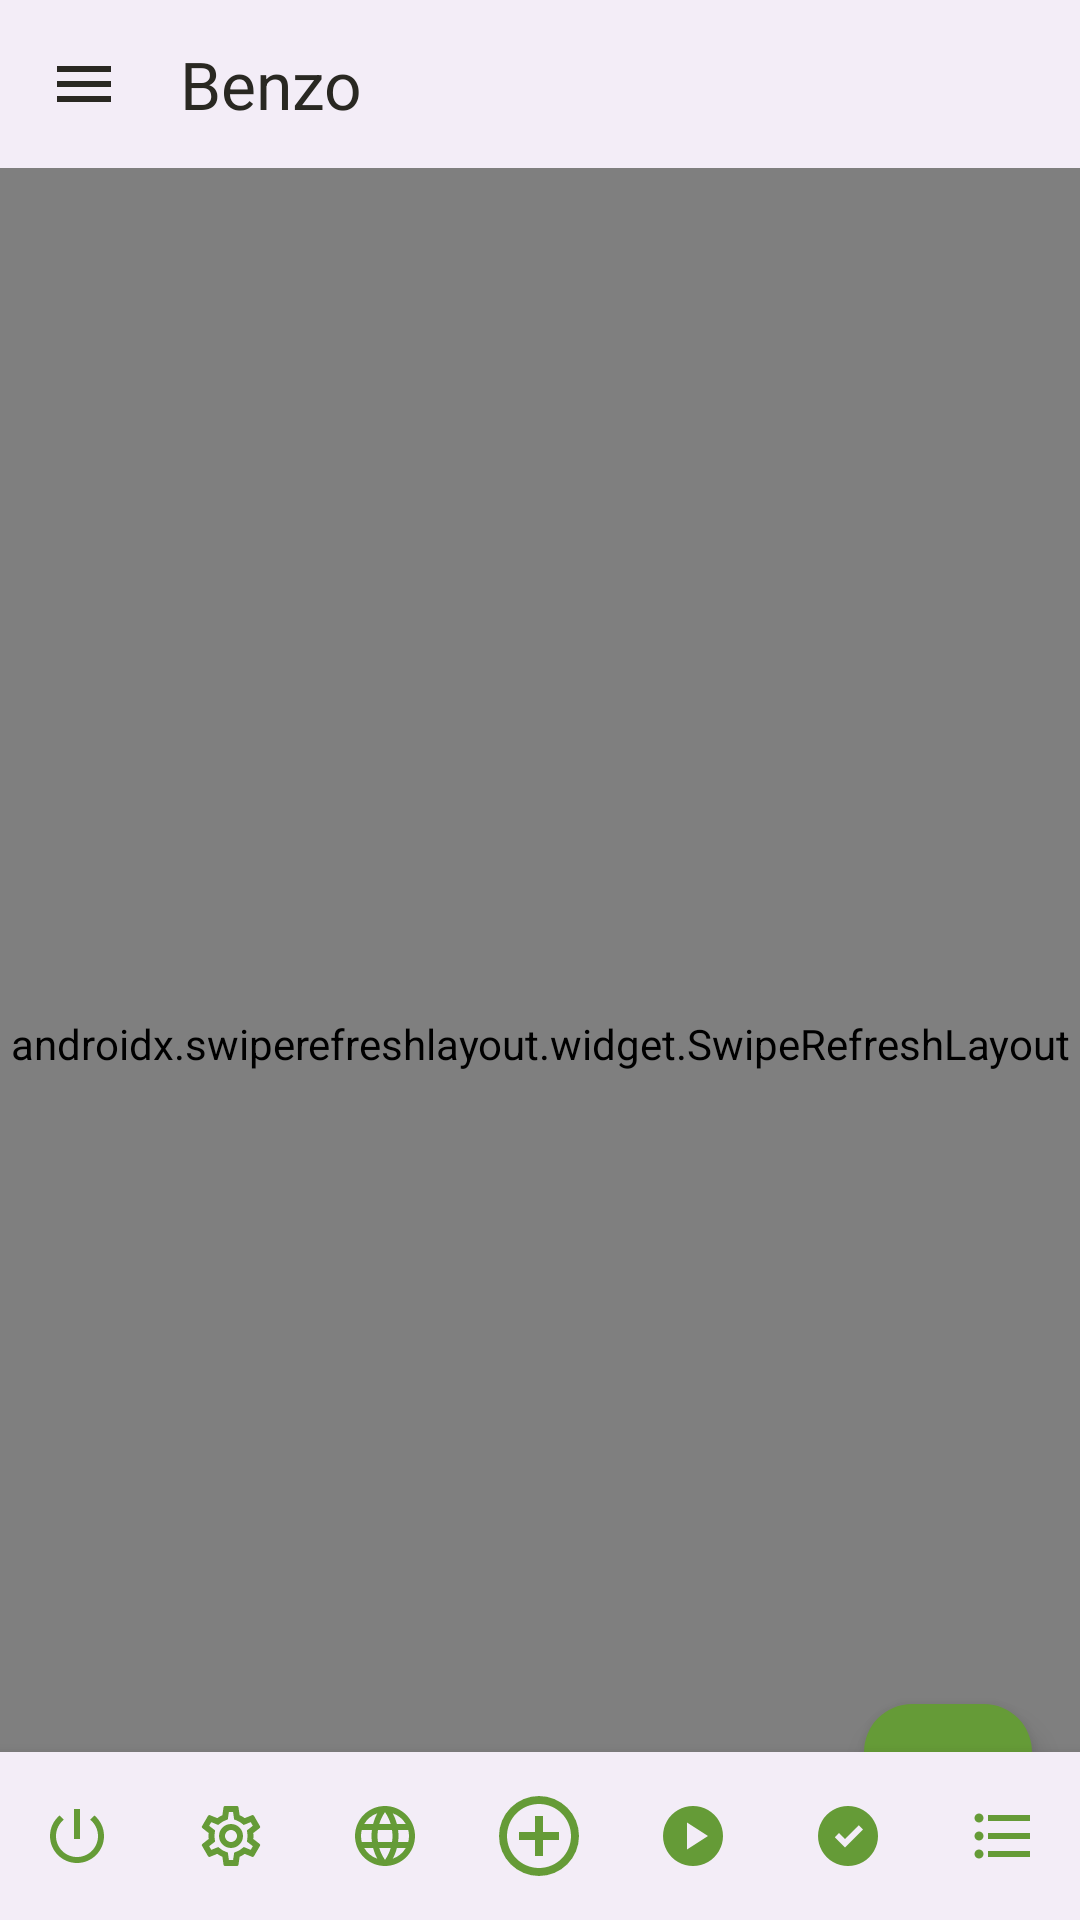

Screen size 1080x1920. Icon name, then its box in pixels as (x1, y1, x2, y2):
bar add: (499, 1796, 579, 1876)
Browser: (355, 1806, 415, 1866)
Categories: (974, 1813, 1030, 1859)
Finished: (818, 1806, 878, 1866)
Queue: (663, 1806, 723, 1866)
Queue control: (50, 1809, 104, 1863)
Settings: (202, 1806, 260, 1866)
